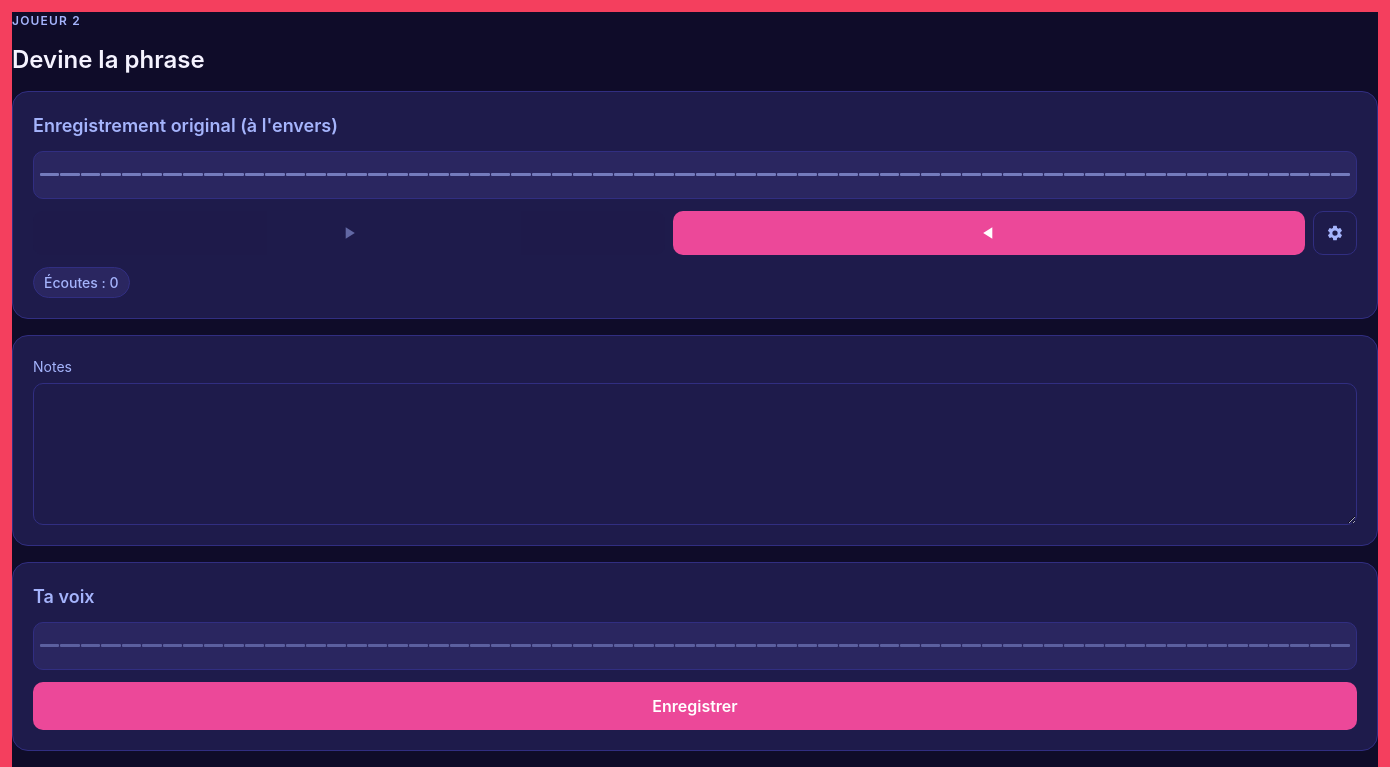
Test: <GuessingPhase /> › playing the original increments the listen counter shown in the UI
The image size is (1390, 767).
Check: the text named "compteur d'écoutes" reads "Écoutes : 0", box x1=44 y1=274 x2=118 y2=291
Step 1. Click the button named "lecture à l'envers" → (989, 233), box x1=673 y1=211 x2=1305 y2=255
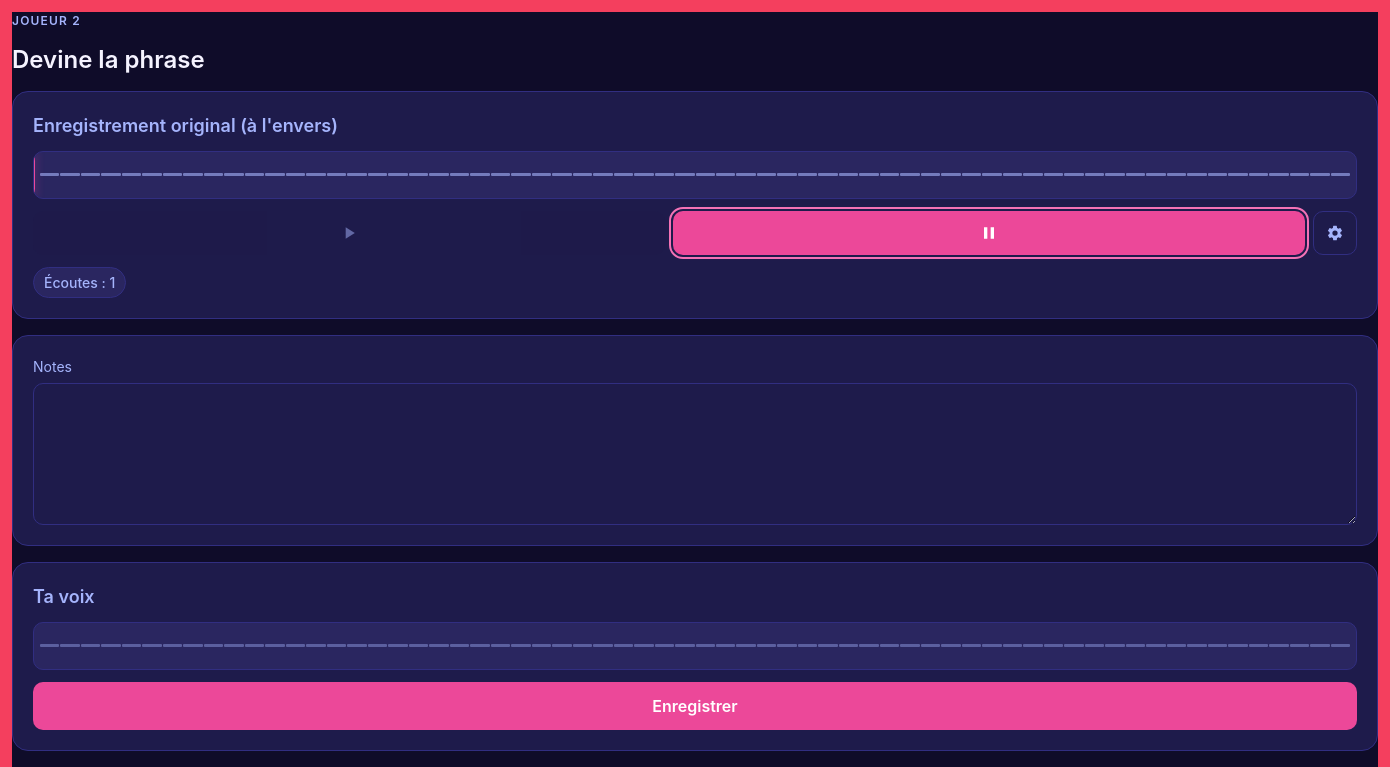
Check: the text named "compteur d'écoutes" reads "Écoutes : 1", box x1=44 y1=274 x2=115 y2=291
